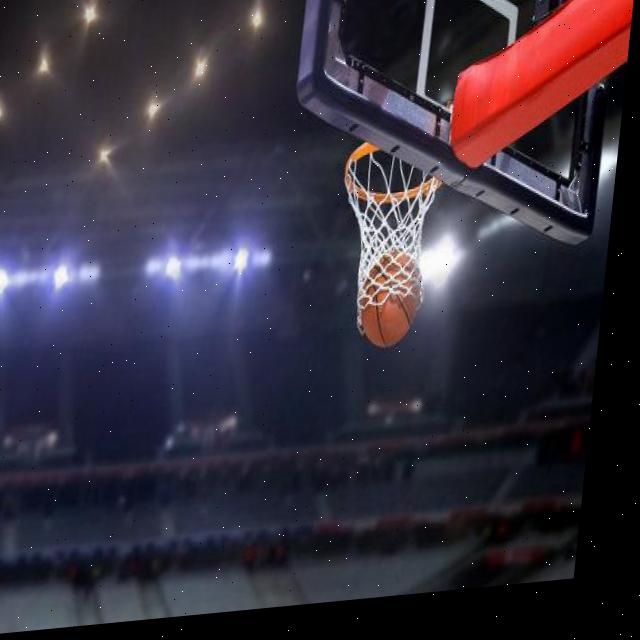basketball: (354, 246, 428, 350)
hoop: (328, 135, 447, 337)
